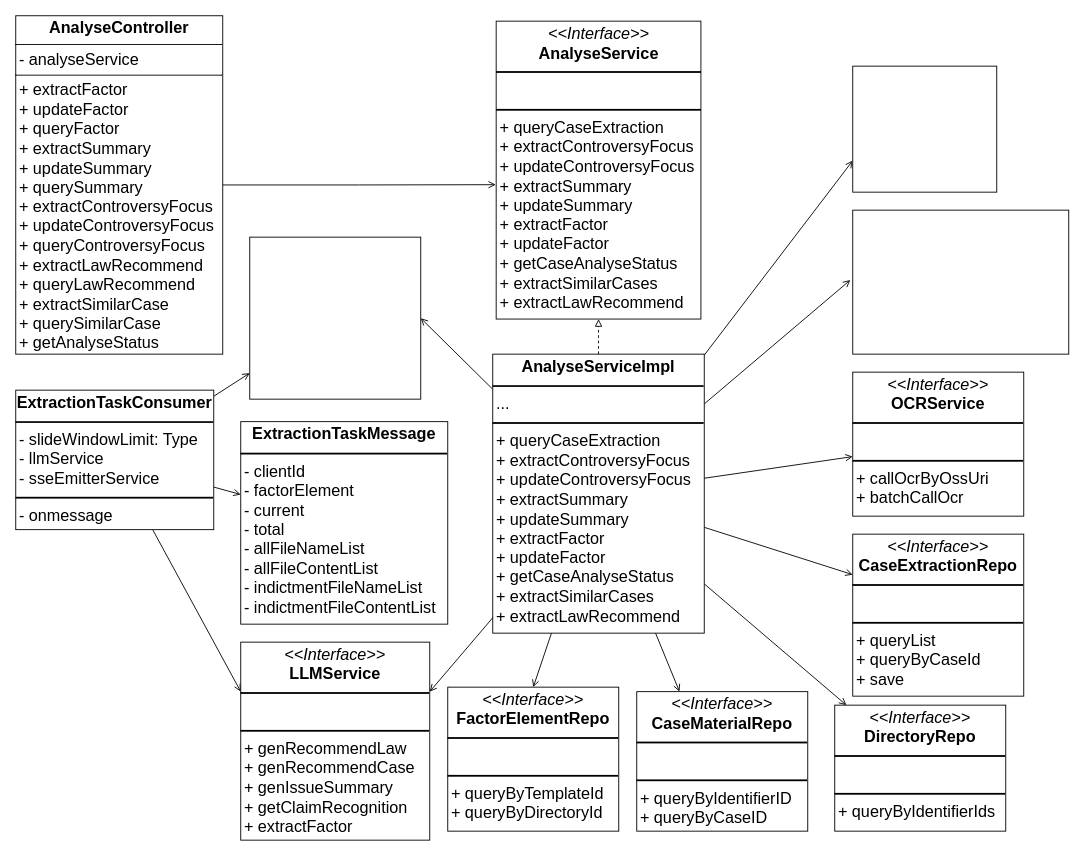
This 1085x856 diagram has some shape labels left out. The shapes that lost their labels are listed below. From the top down, each one's box as (x1, y1, x2, y2) in pixels, then its label:
(852, 65, 997, 192): OssUtil + updateToOss + deletBatch
(852, 209, 1069, 354): <<Interface>> MediationPlatfromService + queryMediateRecords + queryPersonInfo
(249, 236, 421, 399): <<Interface>> SseEmitterService + start + sendSseEvent + sendEndEvent
